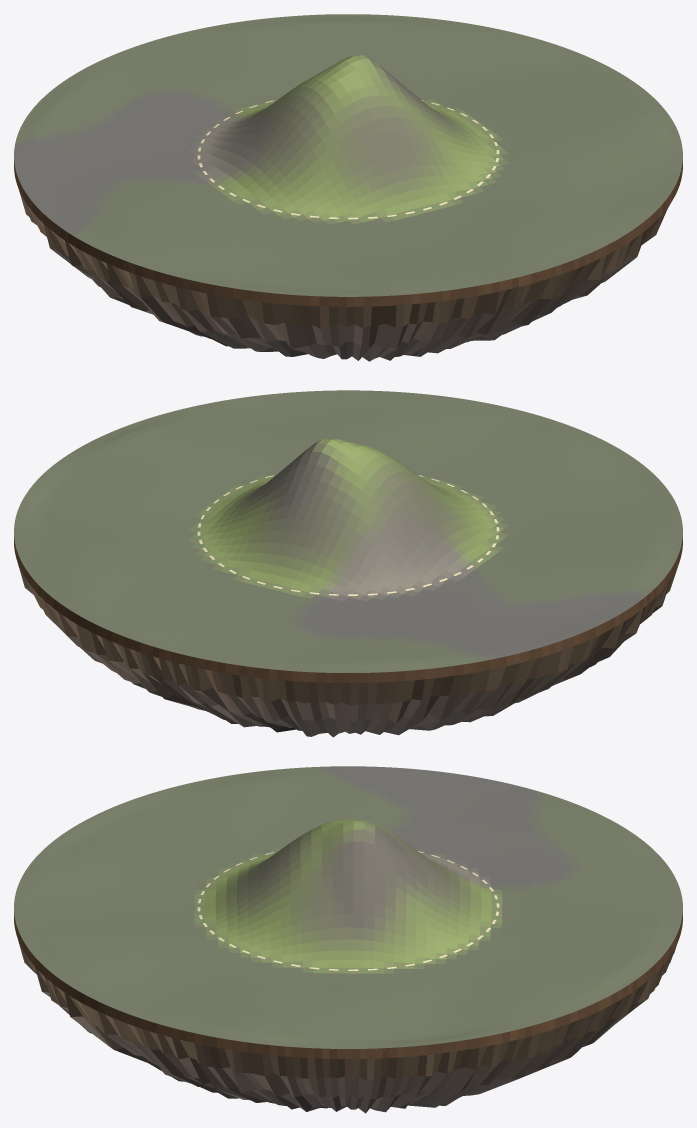
The model's file is central_mountain.glb.
3 renders of one model, top to bottom at view 1: azimuth 30°, elevation 25°; view 2: azimuth 150°, elevation 25°; view 3: azimuth 270°, elevation 25°, orthographic.
Visible parts, largest first — view 1: TER_Surface, TER_Rock, TER_UnlockBorder; view 2: TER_Surface, TER_Rock, TER_UnlockBorder; view 3: TER_Surface, TER_Rock, TER_UnlockBorder.
Boxes of the visible parts, x1,y1,x2,y2 form: TER_Surface: (14, 14, 682, 296); TER_Rock: (14, 160, 682, 361); TER_UnlockBorder: (197, 100, 499, 219); TER_Surface: (14, 390, 682, 672); TER_Rock: (14, 536, 682, 737); TER_UnlockBorder: (197, 475, 499, 595); TER_Surface: (14, 766, 682, 1048); TER_Rock: (14, 912, 682, 1113); TER_UnlockBorder: (197, 851, 499, 970).
Size of the model in its own units: 15.2 by 6.57 by 15.2.
